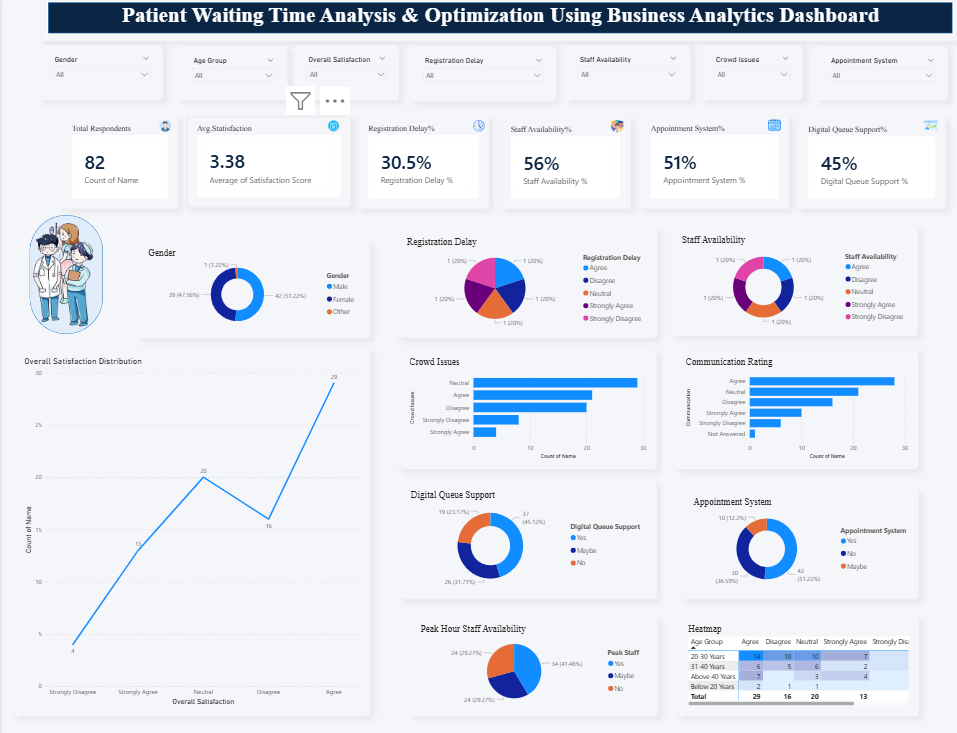

This screenshot's page, from the dashboard's own definition file:
{"tool":"powerbi","page":{"name":"Page 1","canvas":[2000,1500],"ordinal":0},"visuals":[{"type":"shape","box":[77.1,0,1847.9,91.7],"z":0},{"type":"slicer","fields":{"Values":["CleanDataTable.Staff Availability"]},"box":[1133.3,100,250,110.4],"z":1000},{"type":"slicer","fields":{"Values":["CleanDataTable.Registration Delay"]},"box":[820.8,102.1,291.7,110.4],"z":2000},{"type":"slicer","fields":{"Values":["CleanDataTable.Overall Satisfaction"]},"box":[587.5,100,210.4,110.4],"z":3000},{"type":"slicer","fields":{"Values":["CleanDataTable.Age Group"]},"box":[356.2,102.1,216.7,108.3],"z":4000},{"type":"slicer","fields":{"Values":["CleanDataTable.Gender"]},"box":[79.2,100,245.8,110.4],"z":5000},{"type":"slicer","fields":{"Values":["CleanDataTable.Appointment System"]},"box":[1637.5,102.1,262.5,108.3],"z":6000},{"type":"slicer","fields":{"Values":["CleanDataTable.Crowd Issues"]},"box":[1408.3,100,202.1,110.4],"z":7000},{"type":"cardVisual","title":"Total Respondents","fields":{"Data":["Count(CleanDataTable.Name)"]},"box":[120.8,243.8,233.3,185.4],"z":8000},{"type":"cardVisual","title":"Avg.Statisfaction","fields":{"Data":["Avg(CleanDataTable.Satisfaction Score)"]},"box":[370.8,243.8,329.2,183.3],"z":9000},{"type":"cardVisual","title":"Registration Delay%","fields":{"Data":["CleanDataTable.Registration Delay %","CleanDataTable.Registration Delay %"]},"box":[716.7,243.8,262.5,185.4],"z":10000},{"type":"cardVisual","title":"Staff Availability%","fields":{"Data":["CleanDataTable.Staff Availability %"]},"box":[1002.1,245.8,260.4,183.3],"z":11000},{"type":"cardVisual","title":"Digital Queue Support%","fields":{"Data":["CleanDataTable.Digital Queue Support %"]},"box":[1600,245.8,295.8,183.3],"z":12000},{"type":"cardVisual","title":"Appointment System%","fields":{"Data":["CleanDataTable.Appointment System %"]},"box":[1285.4,243.8,297.9,185.4],"z":13000},{"type":"lineChart","title":"Overall Satisfaction Distribution","fields":{"Category":["CleanDataTable.Overall Satisfaction"],"Y":["Count(CleanDataTable.Name)"]},"box":[25,712.5,714.6,737.5],"z":14000},{"type":"pieChart","title":"Registration Delay","fields":{"Category":["CleanDataTable.Registration Delay"],"Y":["Count(CleanDataTable.Registration Delay)"]},"box":[793.8,470.8,522.9,218.8],"z":15000},{"type":"donutChart","title":"Staff Availability","fields":{"Category":["CleanDataTable.Staff Availability"],"Y":["Count(CleanDataTable.Staff Availability)"]},"box":[1347.9,468.8,493.8,218.8],"z":16000},{"type":"clusteredBarChart","title":"Communication Rating","fields":{"Category":["CleanDataTable.Communication"],"Y":["Count(CleanDataTable.Name)"]},"box":[1354.2,712.5,487.5,241.7],"z":17000},{"type":"clusteredBarChart","title":"Crowd Issues","fields":{"Category":["CleanDataTable.Crowd Issues"],"Y":["Count(CleanDataTable.Name)"]},"box":[800,712.5,516.7,241.7],"z":18000},{"type":"donutChart","title":"Digital Queue Support","fields":{"Category":["CleanDataTable.Digital Queue Support"],"Y":["Count(CleanDataTable.Name)"]},"box":[802.1,979.2,514.6,233.3],"z":19000},{"type":"donutChart","title":"Appointment System","fields":{"Category":["CleanDataTable.Appointment System"],"Y":["Count(CleanDataTable.Name)"]},"box":[1368.8,991.7,472.9,220.8],"z":20000},{"type":"pieChart","title":"Peak Hour Staff Availability","fields":{"Category":["CleanDataTable.Peak Staff"],"Y":["Count(CleanDataTable.Name)"]},"box":[820.8,1250,495.8,200],"z":21000},{"type":"pivotTable","title":"Heatmap","fields":{"Rows":["CleanDataTable.Age Group"],"Columns":["CleanDataTable.Overall Satisfaction"],"Values":["Count(CleanDataTable.Name)"]},"box":[1360.4,1250,483.3,200],"z":22000},{"type":"textbox","box":[236.6,9.8,1624.4,73.2],"z":23000},{"type":"image","box":[300,252.1,58.3,22.9],"z":24000},{"type":"image","box":[616.7,252.1,102.1,22.9],"z":25000},{"type":"image","box":[902.1,252.1,112.5,22.9],"z":26000},{"type":"image","box":[1204.2,252.1,66.7,25],"z":27000},{"type":"image","box":[1527.1,250,50,25],"z":28000},{"type":"image","box":[1841.7,250,50,27.1],"z":29000},{"type":"shape","box":[54.2,441.7,147.9,239.6],"z":30000},{"type":"image","box":[0,262.5,260.4,600],"z":31000},{"type":"donutChart","title":"Gender","fields":{"Category":["CleanDataTable.Gender"],"Y":["Count(CleanDataTable.Name)"]},"box":[275,491.7,464.6,197.9],"z":32000}]}

Visuals, with their boxes in screenshot pixels (x1, y1, x2, y2), scaled from the page's 2000x1500 canvas onto the 957x733 screenshot:
shape: [left=37, top=0, right=921, bottom=45]
slicer - CleanDataTable.Staff Availability: [left=542, top=49, right=662, bottom=103]
slicer - CleanDataTable.Registration Delay: [left=393, top=50, right=532, bottom=104]
slicer - CleanDataTable.Overall Satisfaction: [left=281, top=49, right=382, bottom=103]
slicer - CleanDataTable.Age Group: [left=170, top=50, right=274, bottom=103]
slicer - CleanDataTable.Gender: [left=38, top=49, right=156, bottom=103]
slicer - CleanDataTable.Appointment System: [left=784, top=50, right=909, bottom=103]
slicer - CleanDataTable.Crowd Issues: [left=674, top=49, right=771, bottom=103]
"Total Respondents" cardVisual: [left=58, top=119, right=169, bottom=210]
"Avg.Statisfaction" cardVisual: [left=177, top=119, right=335, bottom=209]
"Registration Delay%" cardVisual: [left=343, top=119, right=469, bottom=210]
"Staff Availability%" cardVisual: [left=480, top=120, right=604, bottom=210]
"Digital Queue Support%" cardVisual: [left=766, top=120, right=907, bottom=210]
"Appointment System%" cardVisual: [left=615, top=119, right=758, bottom=210]
"Overall Satisfaction Distribution" lineChart: [left=12, top=348, right=354, bottom=709]
"Registration Delay" pieChart: [left=380, top=230, right=630, bottom=337]
"Staff Availability" donutChart: [left=645, top=229, right=881, bottom=336]
"Communication Rating" clusteredBarChart: [left=648, top=348, right=881, bottom=466]
"Crowd Issues" clusteredBarChart: [left=383, top=348, right=630, bottom=466]
"Digital Queue Support" donutChart: [left=384, top=479, right=630, bottom=593]
"Appointment System" donutChart: [left=655, top=485, right=881, bottom=593]
"Peak Hour Staff Availability" pieChart: [left=393, top=611, right=630, bottom=709]
"Heatmap" pivotTable: [left=651, top=611, right=882, bottom=709]
textbox: [left=113, top=5, right=890, bottom=41]
image: [left=144, top=123, right=171, bottom=134]
image: [left=295, top=123, right=344, bottom=134]
image: [left=432, top=123, right=485, bottom=134]
image: [left=576, top=123, right=608, bottom=135]
image: [left=731, top=122, right=755, bottom=134]
image: [left=881, top=122, right=905, bottom=135]
shape: [left=26, top=216, right=97, bottom=333]
image: [left=0, top=128, right=125, bottom=421]
"Gender" donutChart: [left=132, top=240, right=354, bottom=337]
